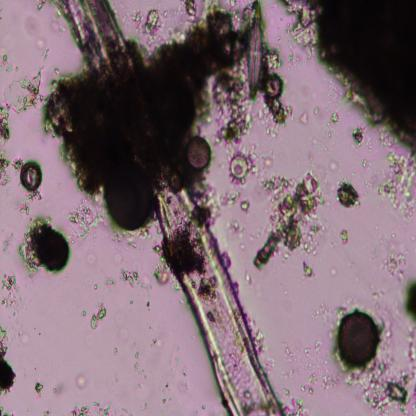Background material: (48, 3, 246, 232), (283, 0, 416, 162), (254, 172, 322, 268), (347, 360, 416, 412), (282, 337, 338, 394), (22, 213, 71, 278), (377, 152, 416, 220), (197, 177, 239, 224), (257, 98, 289, 146), (4, 72, 43, 111), (70, 201, 102, 243), (251, 141, 285, 174), (0, 329, 17, 391), (0, 274, 22, 316), (26, 13, 51, 49), (335, 178, 361, 210), (401, 276, 416, 324), (142, 9, 165, 40), (384, 250, 406, 282), (0, 151, 21, 184), (70, 400, 112, 415), (129, 352, 146, 388), (280, 396, 310, 416), (151, 257, 171, 285), (19, 192, 42, 215), (313, 301, 332, 328), (89, 302, 107, 330), (139, 274, 152, 309), (118, 268, 140, 288), (114, 308, 127, 341), (325, 111, 340, 139), (0, 104, 10, 144), (73, 370, 90, 393), (85, 246, 101, 269), (101, 268, 118, 289), (168, 343, 180, 371), (240, 264, 254, 288), (351, 125, 364, 150), (300, 262, 316, 281), (327, 155, 340, 177), (185, 0, 198, 21), (147, 332, 161, 350), (50, 381, 64, 398), (108, 250, 124, 264), (0, 402, 15, 416), (1, 56, 13, 73), (163, 380, 171, 404), (340, 228, 350, 246), (298, 110, 308, 127), (18, 331, 30, 345), (327, 264, 339, 278), (239, 199, 250, 213), (35, 381, 43, 396), (126, 298, 134, 307), (80, 309, 87, 317), (94, 282, 99, 291), (112, 349, 120, 354)
Diatom: (106, 162, 158, 230), (337, 310, 379, 372), (247, 1, 264, 99), (19, 160, 43, 192), (188, 138, 211, 168), (230, 154, 250, 181), (265, 74, 284, 98)
Microfibre: (66, 1, 284, 415)
